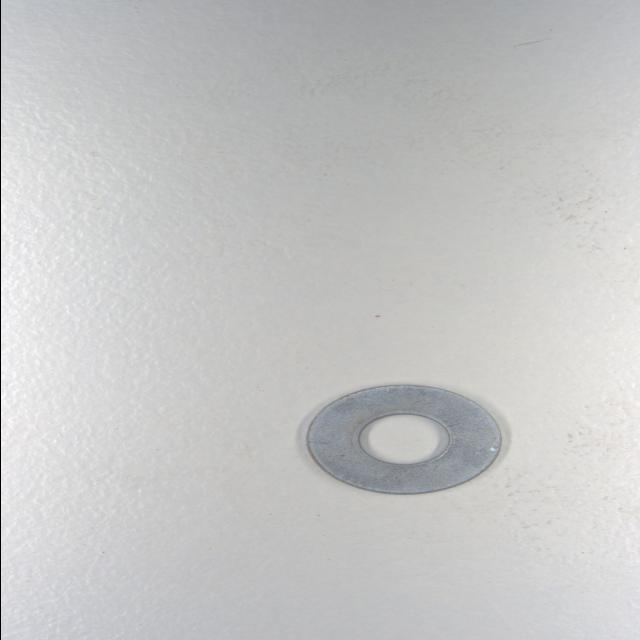washer: (304, 384, 502, 495)
